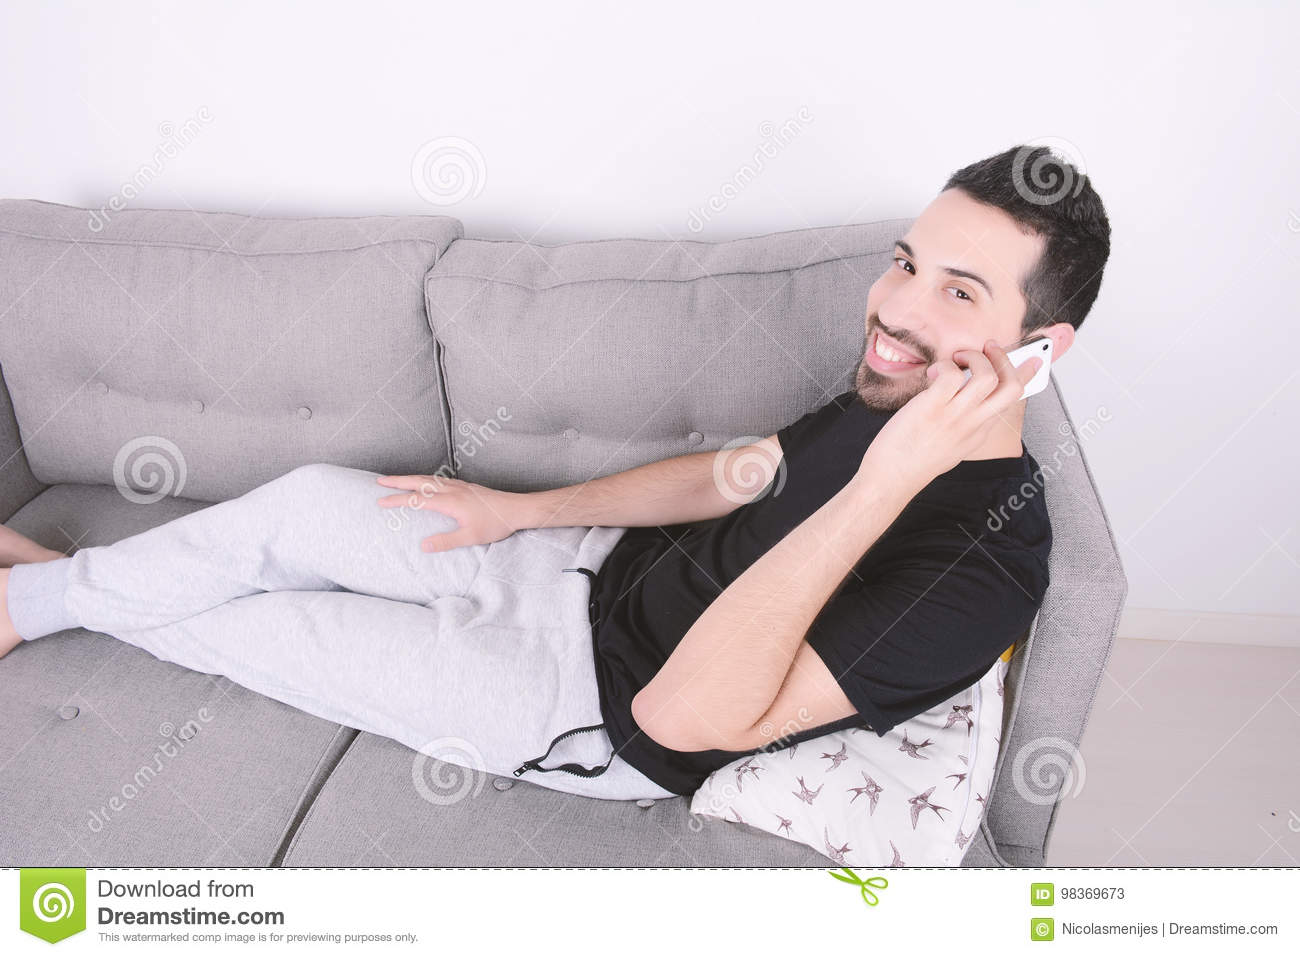phone: (937, 331, 1061, 416)
talk: (853, 231, 1058, 509)
